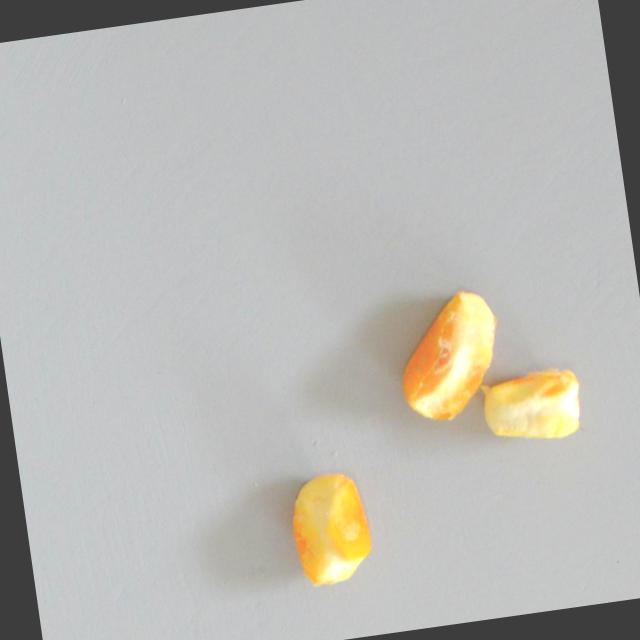dañado: (387, 280, 510, 429)
pelicula: (279, 467, 377, 591), (477, 354, 587, 451)
